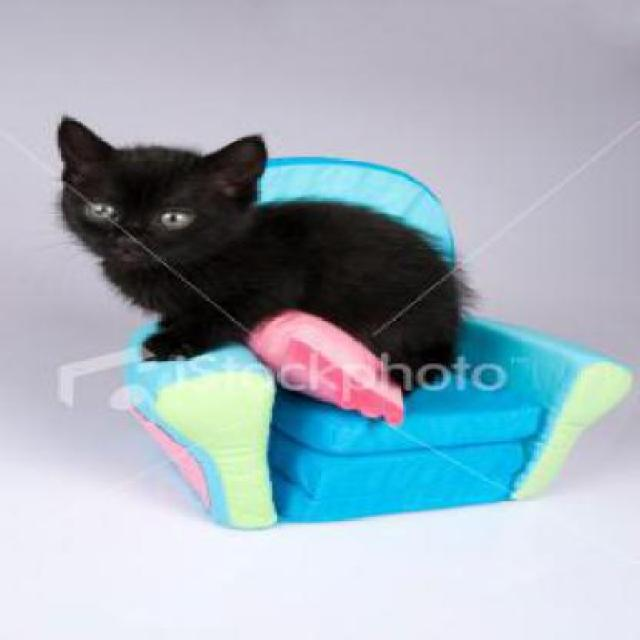cat: (53, 115, 456, 402)
